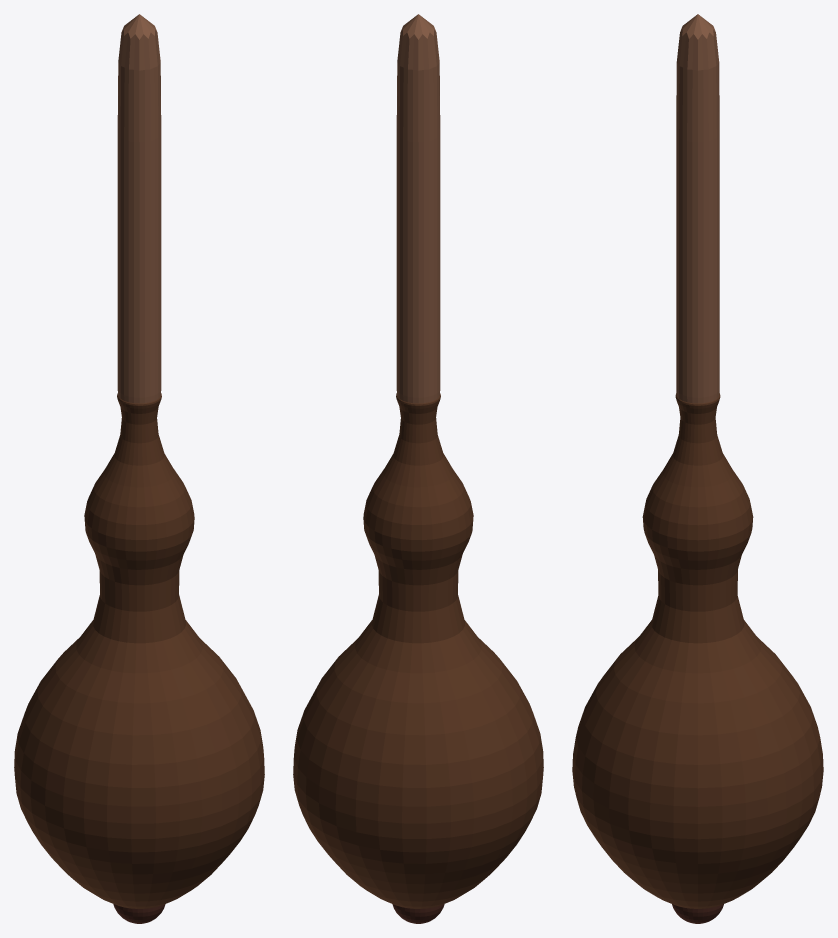
File: Wand 613.glb
3 views of the same model, side by side, from view 1: azimuth 30°, elevation 25°; view 2: azimuth 150°, elevation 25°; view 3: azimuth 270°, elevation 25° (orthographic).
Parts seen in each view (by area): view 1: GeneratedWand; view 2: GeneratedWand; view 3: GeneratedWand.
Boxes of the visible parts, x1,y1,x2,y2 form: GeneratedWand: (14, 14, 264, 923); GeneratedWand: (293, 14, 543, 923); GeneratedWand: (572, 14, 823, 923).
Size of the model in its own units: 0.123 by 0.4899 by 0.123.
